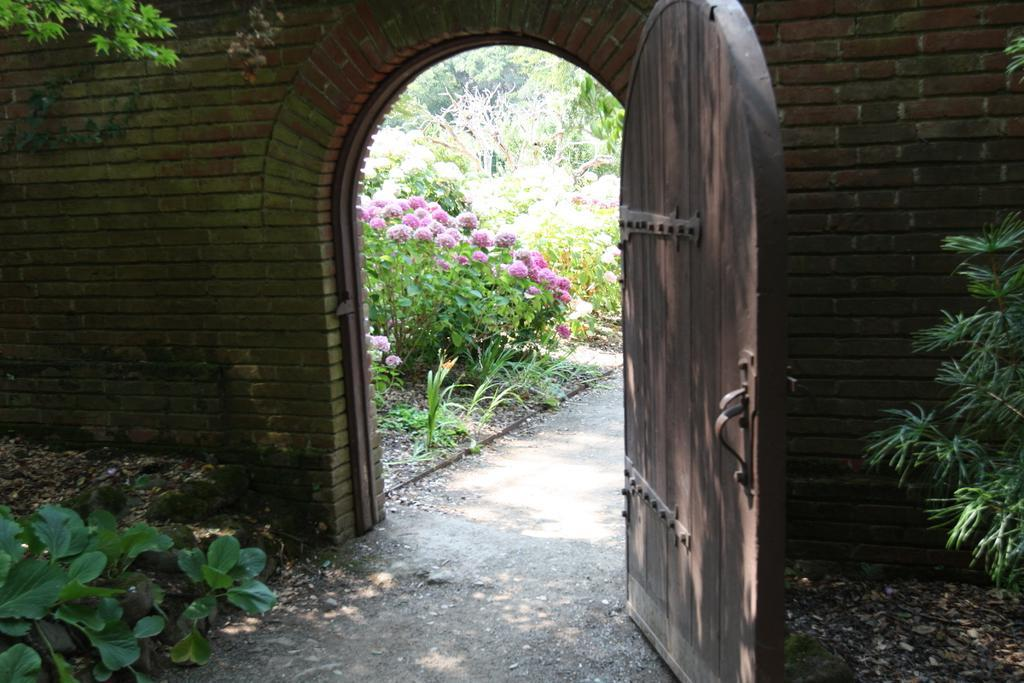door: (626, 41, 754, 638)
handle: (708, 362, 754, 500)
